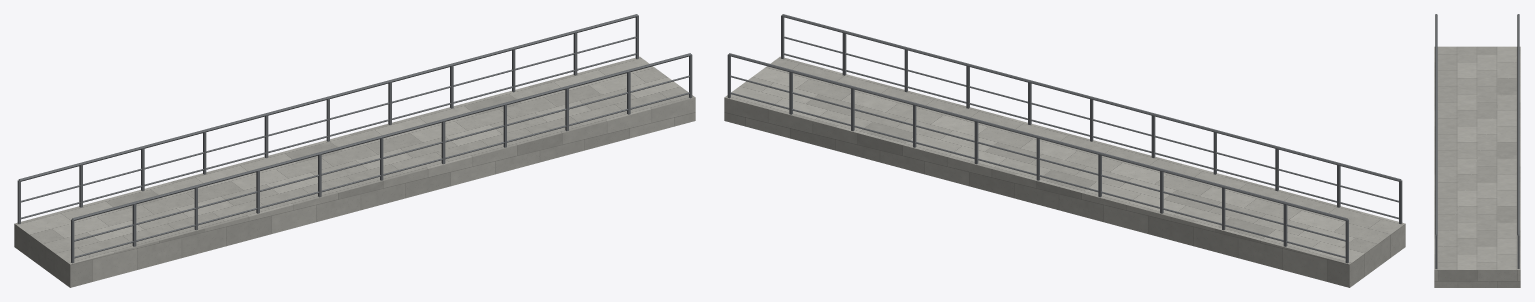
The picture shows the model from 3 angles, left to right: view 1: azimuth 30°, elevation 25°; view 2: azimuth 150°, elevation 25°; view 3: azimuth 270°, elevation 25°; orthographic projection. The views are drawn at different scales.
Visible parts, largest first — view 1: hanaSquare-ne-n__deck, hanaSquare-ne-n__frame; view 2: hanaSquare-ne-n__deck, hanaSquare-ne-n__frame; view 3: hanaSquare-ne-n__deck, hanaSquare-ne-n__frame.
Boxes of the visible parts, bbox=[...] form: hanaSquare-ne-n__deck: bbox=[14, 56, 695, 287]; hanaSquare-ne-n__frame: bbox=[17, 14, 692, 263]; hanaSquare-ne-n__deck: bbox=[724, 56, 1405, 287]; hanaSquare-ne-n__frame: bbox=[727, 14, 1402, 263]; hanaSquare-ne-n__deck: bbox=[1434, 46, 1520, 287]; hanaSquare-ne-n__frame: bbox=[1435, 14, 1519, 268].
Bounding box in the file's own units: 16.77 × 2.1 × 2.6.
Materials: 2 (1 with a texture image).
